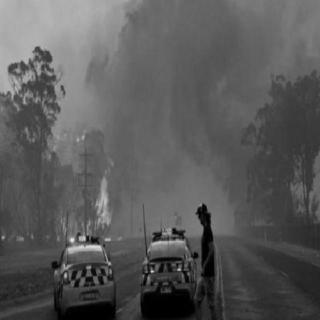Fire: (52, 136, 62, 153)
